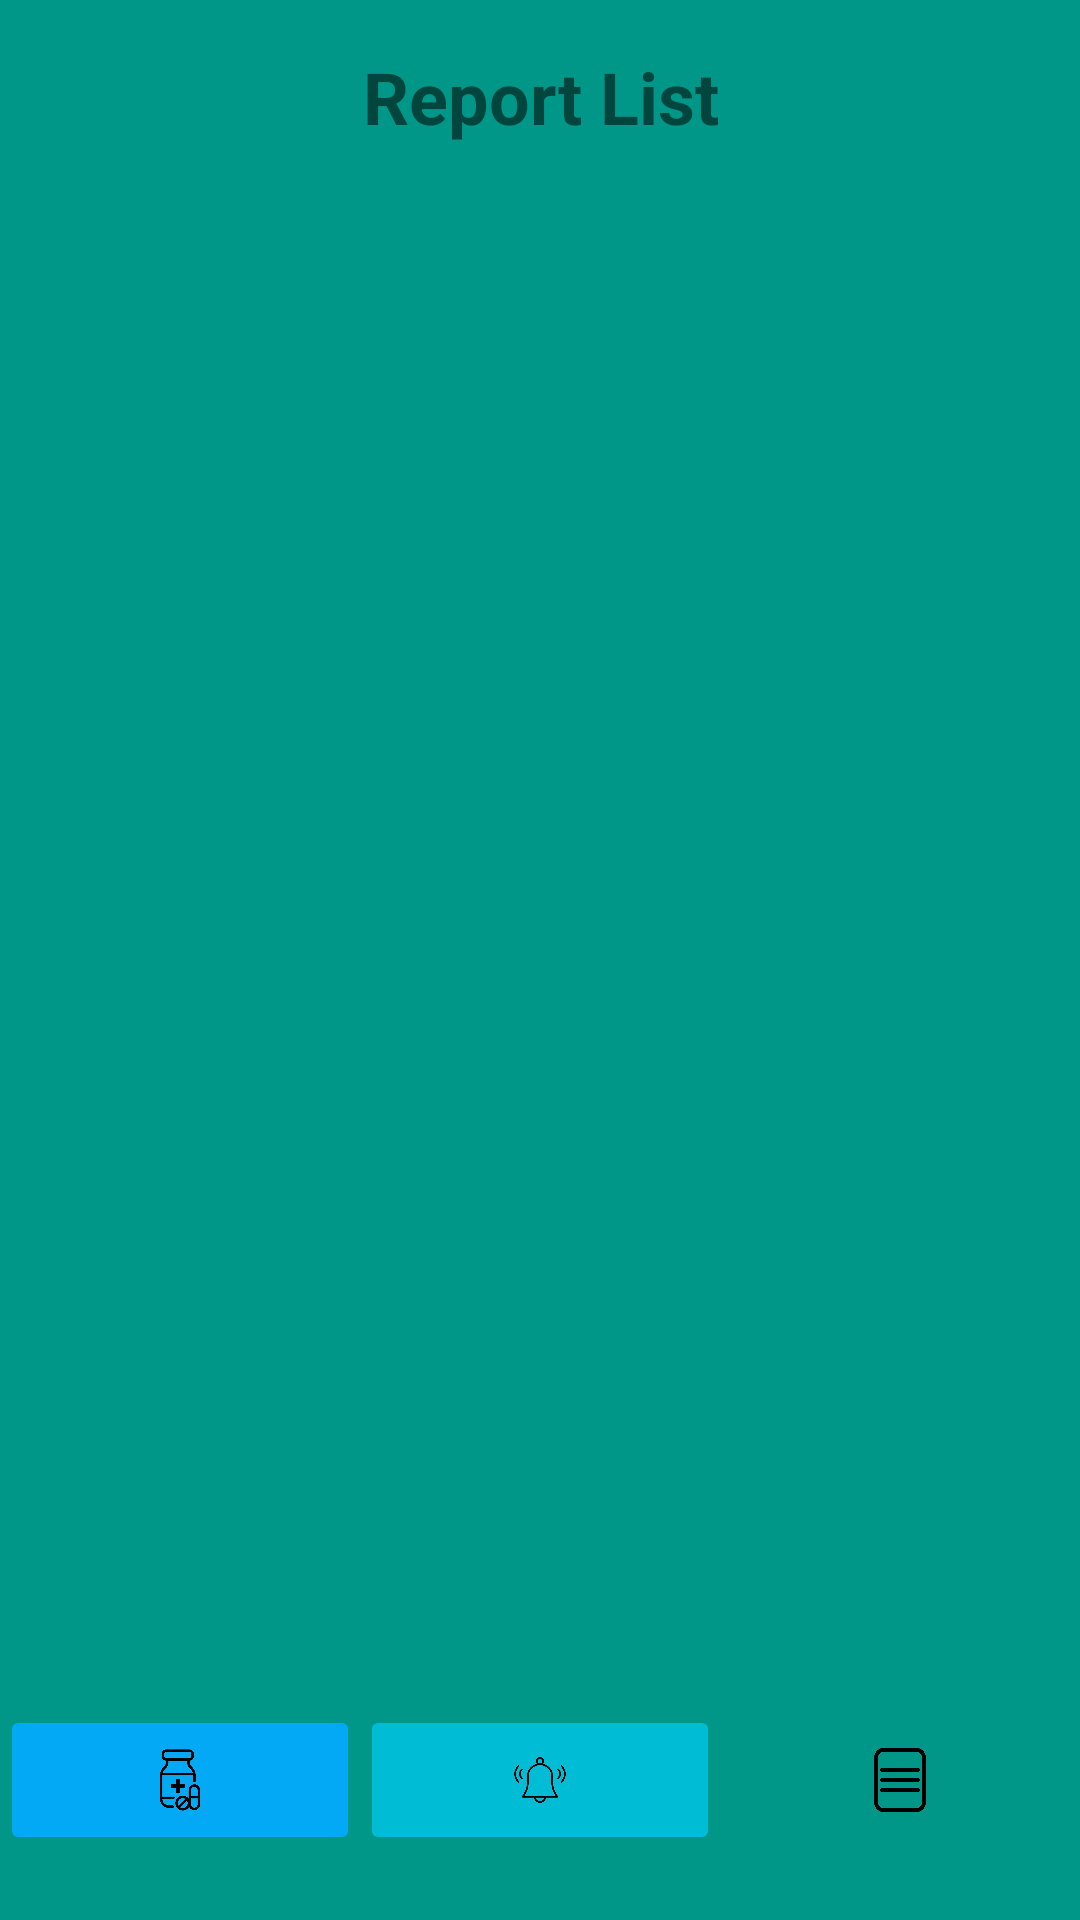

Named icons in this screenshot (1080 x 1920) and their bounding boxes, (x1, y1, x2, y2):
alarm: (372, 1723, 708, 1837)
medicine: (12, 1723, 348, 1837)
report: (874, 1748, 926, 1812)
